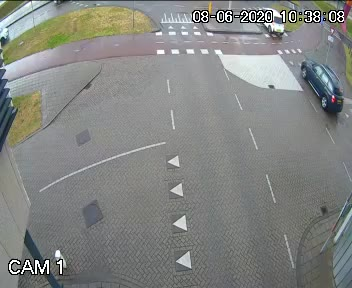car: (293, 54, 345, 130), (254, 3, 289, 44)
